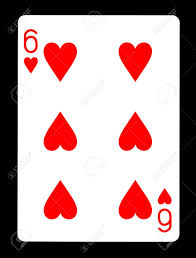six of hearts: (18, 15, 177, 241)
